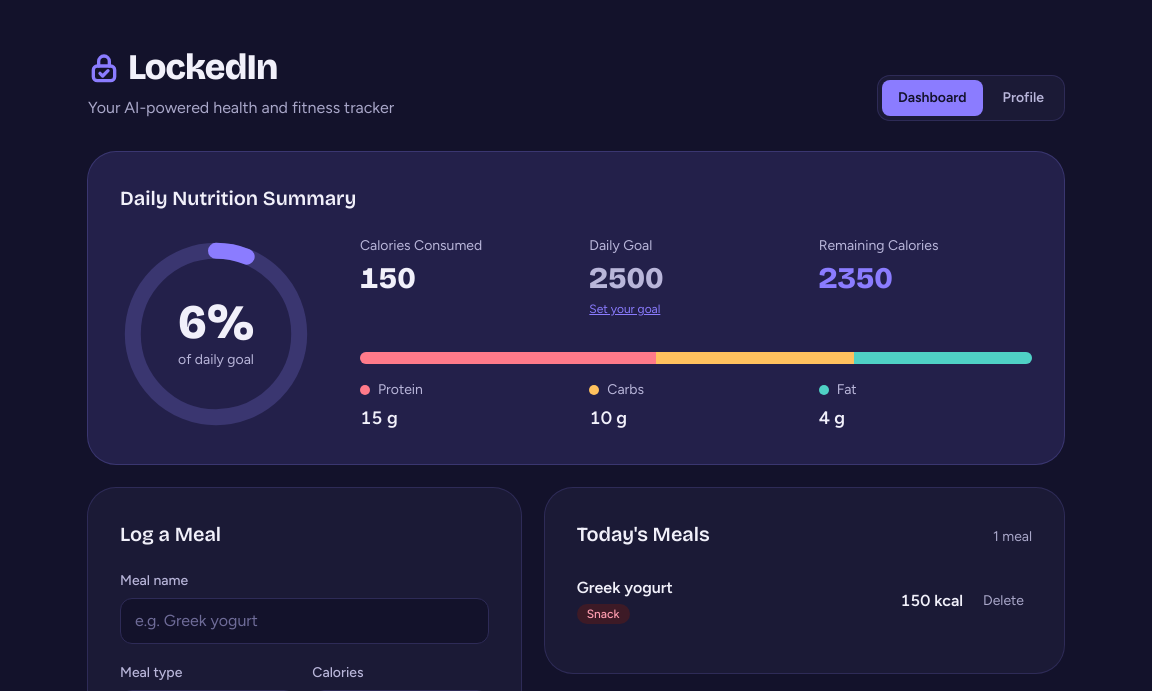
Test case: dashboard connected to the API › shows an error when deleting fails
The width and height of the screenshot is (1152, 691).
Check: the heading "Greek yogurt" is shown, box x1=577 y1=576 x2=673 y2=600
What coordinates should you click on to do the following:
click the button with aria-label "Delete Greek yogurt"
I would click on:
 (1004, 600)
Its box is x1=975 y1=586 x2=1032 y2=614.
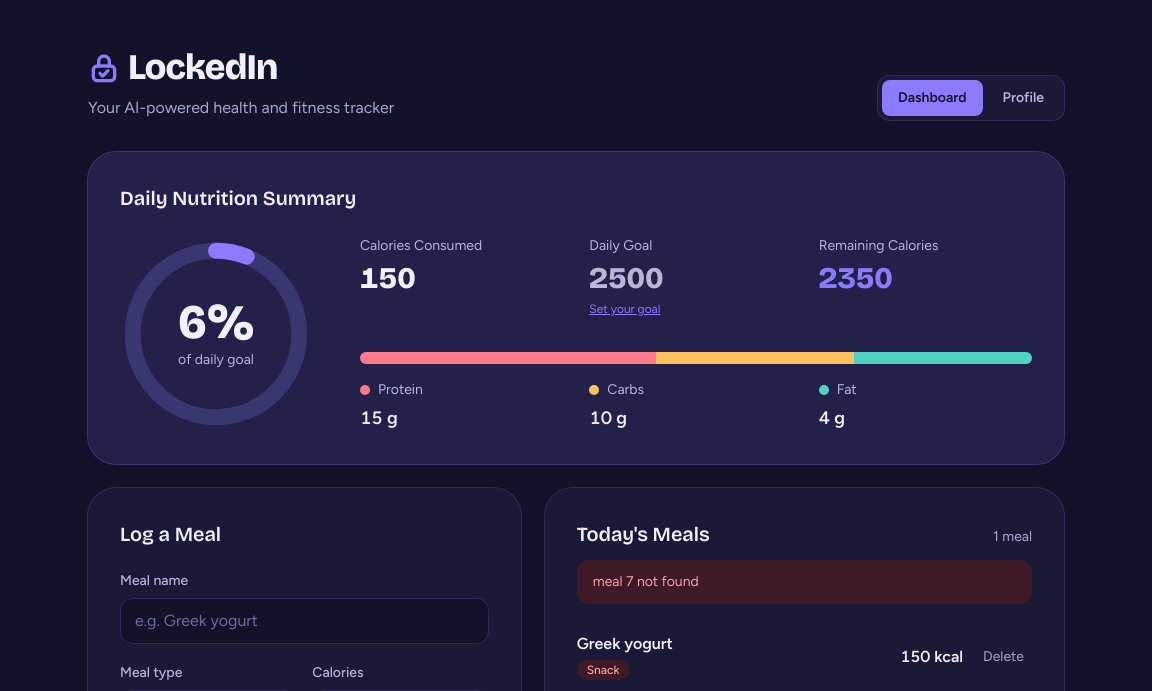
Check: the heading "Greek yogurt" is shown, box x1=577 y1=632 x2=673 y2=656
Check: the message with test id "meal-list-error" reads "meal 7 not found", box x1=593 y1=573 x2=699 y2=590
